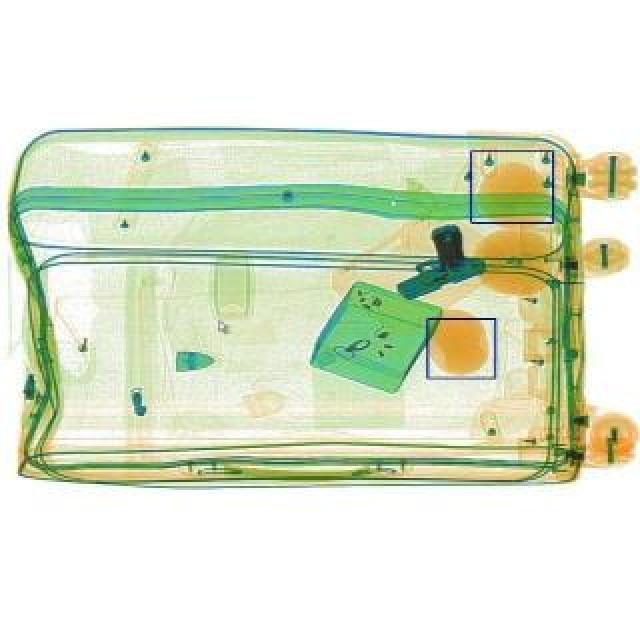gun: (378, 218, 486, 304)
